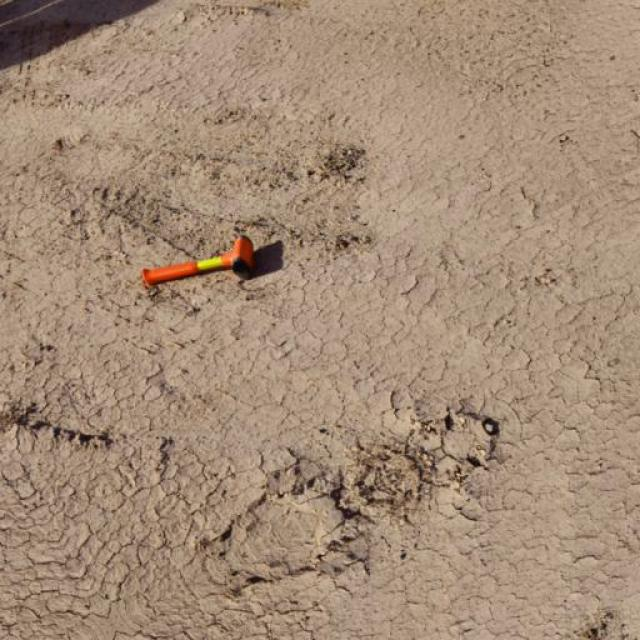mallet: (142, 234, 256, 288)
